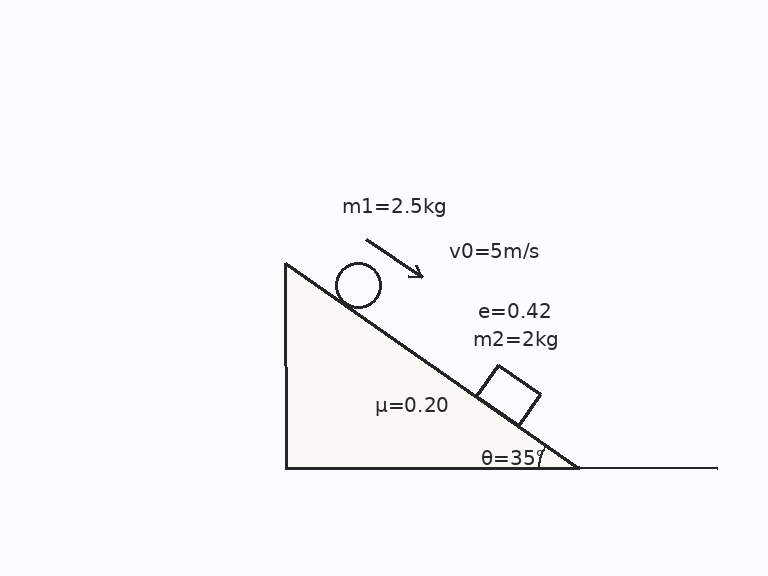ball: (333, 260, 383, 310)
block: (474, 363, 541, 427)
ramp: (284, 261, 581, 470)
